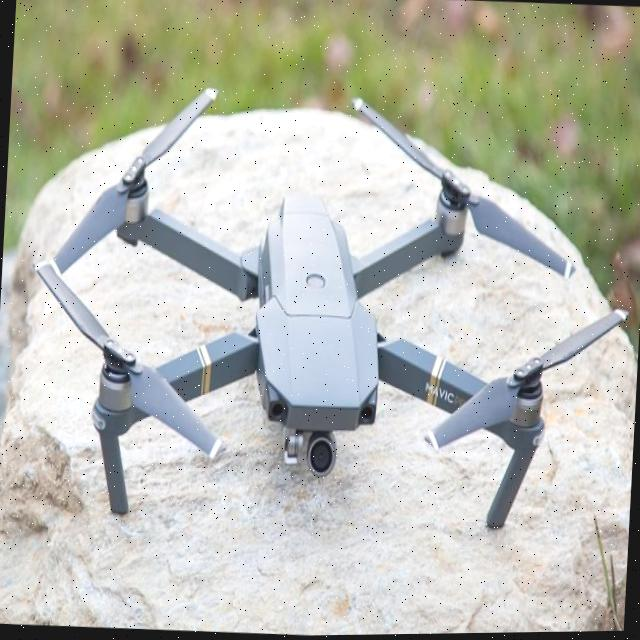drone: (38, 72, 618, 541)
